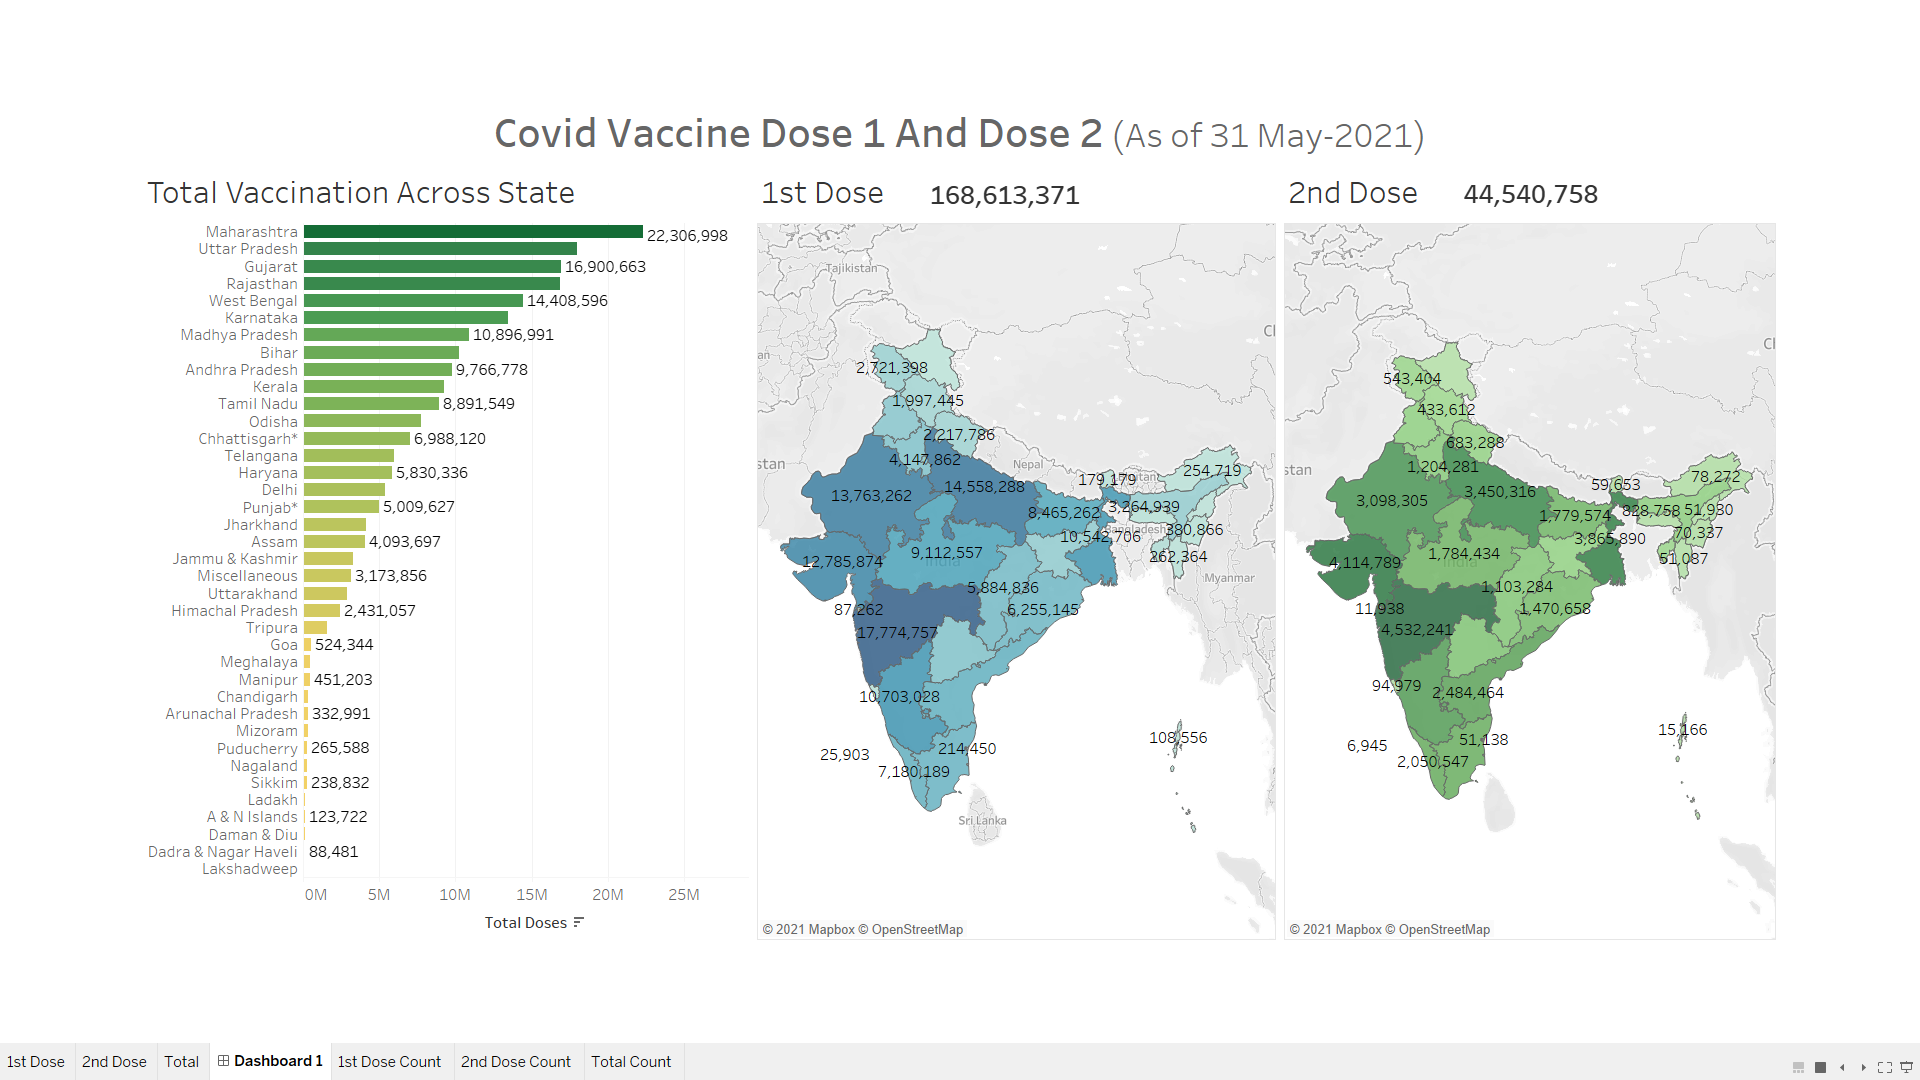

What the dashboard file says about the page in this screenshot:
{"tool":"tableau","page":{"name":"Dashboard 1","canvas":[1657,861],"ordinal":0},"visuals":[{"type":"worksheet","box":[0,0,1657,861]},{"type":"worksheet","param":"horz","box":[8,8,1641,845]},{"type":"worksheet","param":"horz","box":[8,8,1641,845]},{"type":"worksheet","param":"vert","box":[8,8,1641,845]},{"type":"worksheet","box":[8,8,1641,63]},{"type":"worksheet","param":"vert","box":[8,71,1641,782]},{"type":"worksheet","param":"horz","box":[8,71,1641,781.9]},{"type":"worksheet","param":"horz","box":[8,71,614,781.9]},{"type":"worksheet","title":"Total","mark":"Automatic","rows":["F2"],"cols":["Total Doses"],"box":[8,71,614,781.9]},{"type":"worksheet","title":"1st Dose","mark":"Automatic","box":[622,71,527,781.9]},{"type":"worksheet","title":"2nd Dose","mark":"Automatic","box":[1149,71,500,781.9]},{"type":"worksheet","title":"2nd Dose Count","mark":"Automatic","box":[1314,75,157,53]},{"type":"worksheet","title":"1st Dose Count","mark":"Automatic","box":[761,76,192,54]}]}

Visuals, with their boxes on the page's 1657x861 design canvas (x1, y1, x2, y2). These are canvas units, not pixel positions in the 1920x1080 screenshot, which may show the page scaled, cropped or inside an application window:
worksheet: l=0, t=0, r=1657, b=861
worksheet: l=8, t=8, r=1649, b=853
worksheet: l=8, t=8, r=1649, b=853
worksheet: l=8, t=8, r=1649, b=853
worksheet: l=8, t=8, r=1649, b=71
worksheet: l=8, t=71, r=1649, b=853
worksheet: l=8, t=71, r=1649, b=853
worksheet: l=8, t=71, r=622, b=853
"Total" worksheet: l=8, t=71, r=622, b=853
"1st Dose" worksheet: l=622, t=71, r=1149, b=853
"2nd Dose" worksheet: l=1149, t=71, r=1649, b=853
"2nd Dose Count" worksheet: l=1314, t=75, r=1471, b=128
"1st Dose Count" worksheet: l=761, t=76, r=953, b=130
